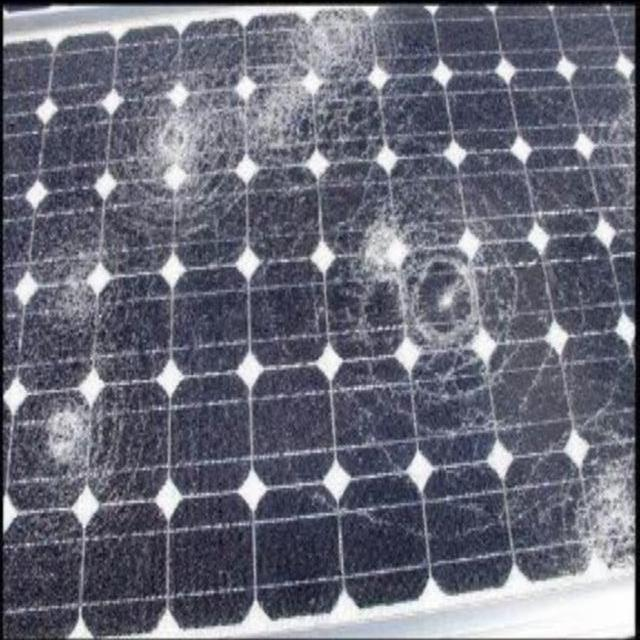cracked: (0, 0, 636, 620)
